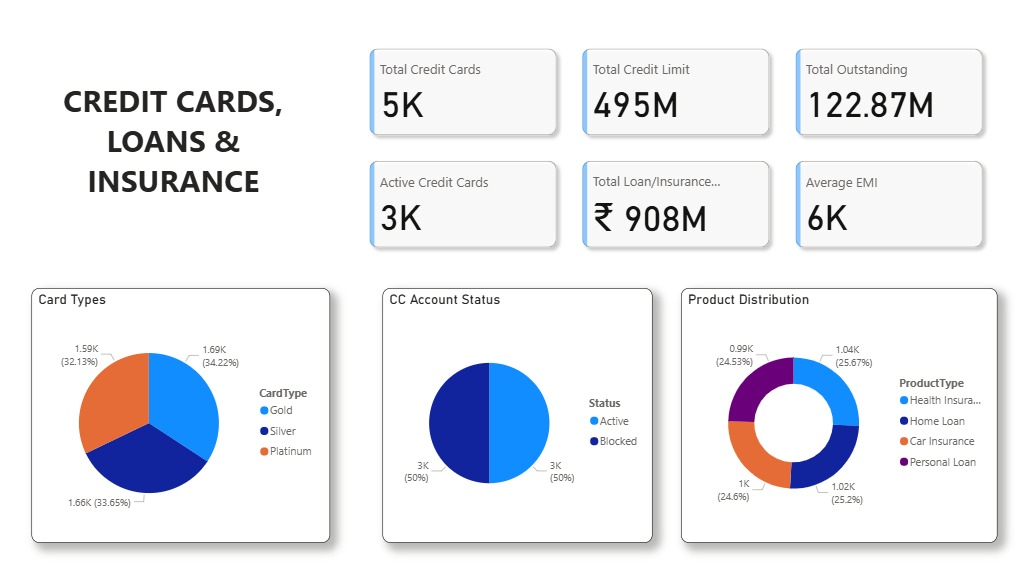

What the dashboard file says about the page in this screenshot:
{"tool":"powerbi","page":{"name":"Credit Card","canvas":[1280,720],"ordinal":1},"visuals":[{"type":"cardVisual","fields":{"Data":["Table.Total Credit Cards","Table.Total Credit Limit","Table.Total Outstanding","Table.Active Credit Cards","Table.Total Loan/Insurance Amount","Table.Average EMI"]},"box":[446.3,46.3,792.6,281.5],"z":0},{"type":"pieChart","title":"Card Types ","fields":{"Category":["bank_credit_cards.CardType"],"Y":["CountNonNull(bank_credit_cards.CardType)"]},"box":[46.3,359.3,368.5,314.8],"z":1000},{"type":"donutChart","title":"Product Distribution","fields":{"Y":["CountNonNull(bank_loans_insurance.ProductType)"],"Category":["bank_loans_insurance.ProductType"]},"box":[848.1,359.3,390.7,314.8],"z":2000},{"type":"pieChart","title":"CC Account Status","fields":{"Y":["Table.Active Accounts"],"Series":["bank_credit_cards.Status"]},"box":[479.6,359.3,333.3,314.8],"z":3000},{"type":"textbox","box":[46.3,96.3,350,181.5],"z":4000}]}

Visuals, with their boxes in screenshot pixels (x1, y1, x2, y2), scaled from the page's 1280x720 canvas onto the 1015x564 screenshot:
cardVisual - Table.Total Credit Cards x Table.Total Credit Limit: box=[354, 36, 982, 257]
"Card Types " pieChart: box=[37, 281, 329, 528]
"Product Distribution" donutChart: box=[673, 281, 982, 528]
"CC Account Status" pieChart: box=[380, 281, 645, 528]
textbox: box=[37, 75, 314, 218]
